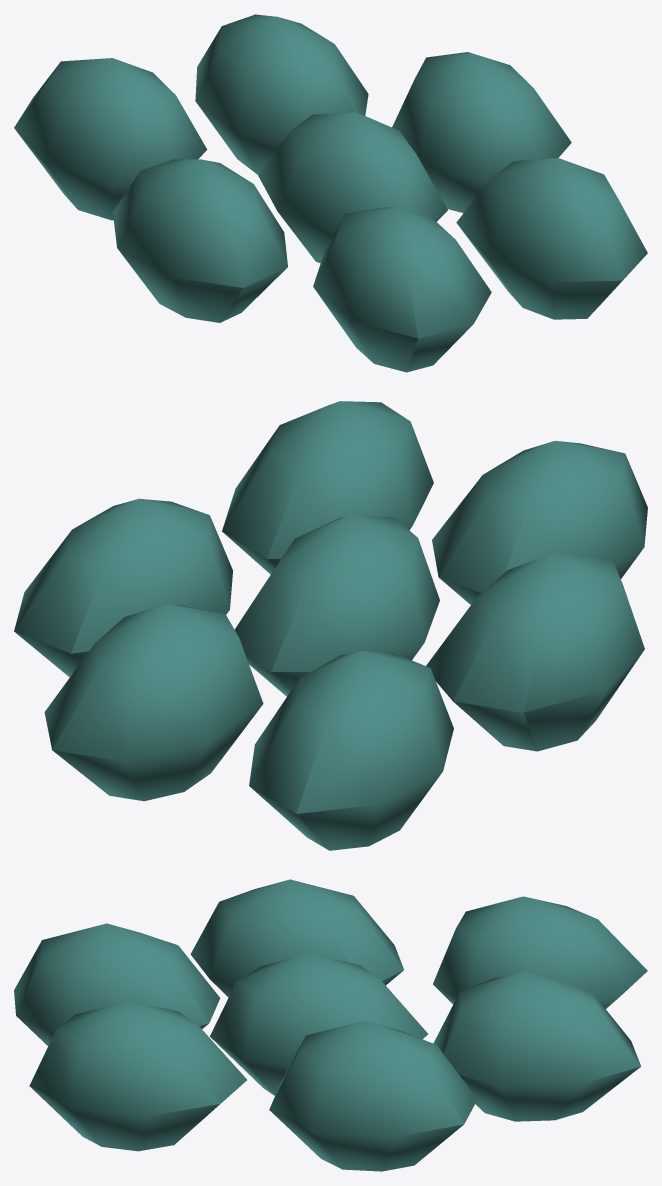
File: food_agave_c.obj
The picture shows the model from 3 angles, top to bottom: view 1: azimuth 30°, elevation 25°; view 2: azimuth 150°, elevation 25°; view 3: azimuth 270°, elevation 25°; orthographic projection. The views are drawn at different scales.
Parts seen in each view (by area): view 1: agave_6, agave_4, agave_5, agave_1, agave_3, agave_2, agave_7; view 2: agave_2, agave_1, agave_6, agave_7, agave_3, agave_5, agave_4; view 3: agave_4, agave_3, agave_2, agave_7, agave_5, agave_6, agave_1.
Boxes of the visible parts, x1,y1,x2,y2 form: agave_6: (113,159,287,322); agave_4: (456,158,647,319); agave_5: (313,207,491,372); agave_1: (14,58,207,220); agave_3: (392,52,571,213); agave_2: (195,14,368,174); agave_7: (258,112,447,263); agave_2: (44,604,263,801); agave_1: (249,651,453,850); agave_6: (426,553,644,751); agave_7: (234,515,439,696); agave_3: (14,498,232,677); agave_5: (432,441,647,604); agave_4: (222,401,433,574); agave_4: (29,1001,246,1151); agave_3: (269,1020,477,1171); agave_2: (433,971,641,1121); agave_7: (210,953,427,1095); agave_5: (14,923,220,1045); agave_6: (190,879,403,997); agave_1: (433,896,647,1008).
Size of the model in its own units: 0.299 by 0.09 by 0.3876.
